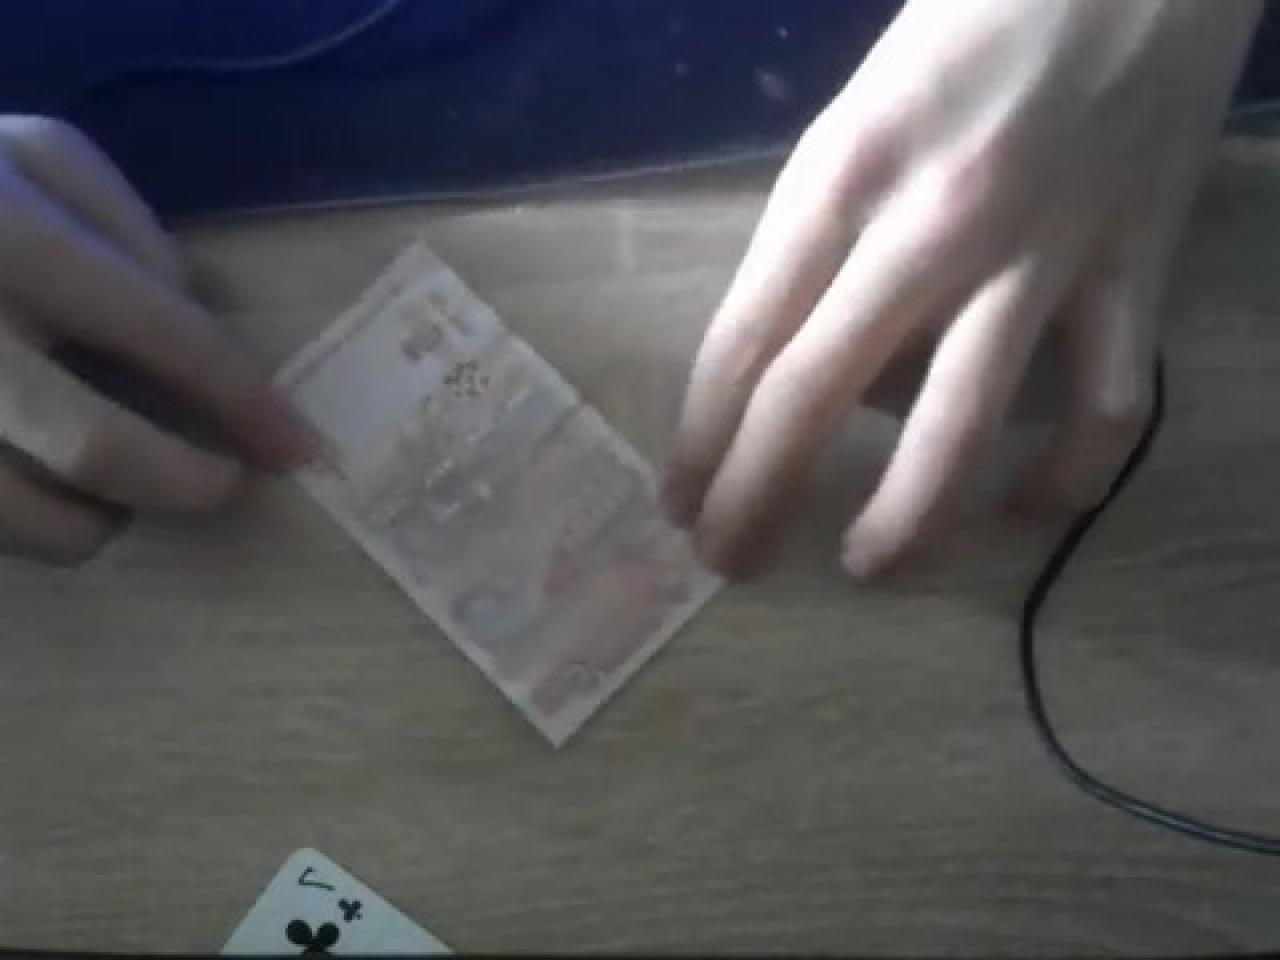5leva: (272, 243, 728, 749)
